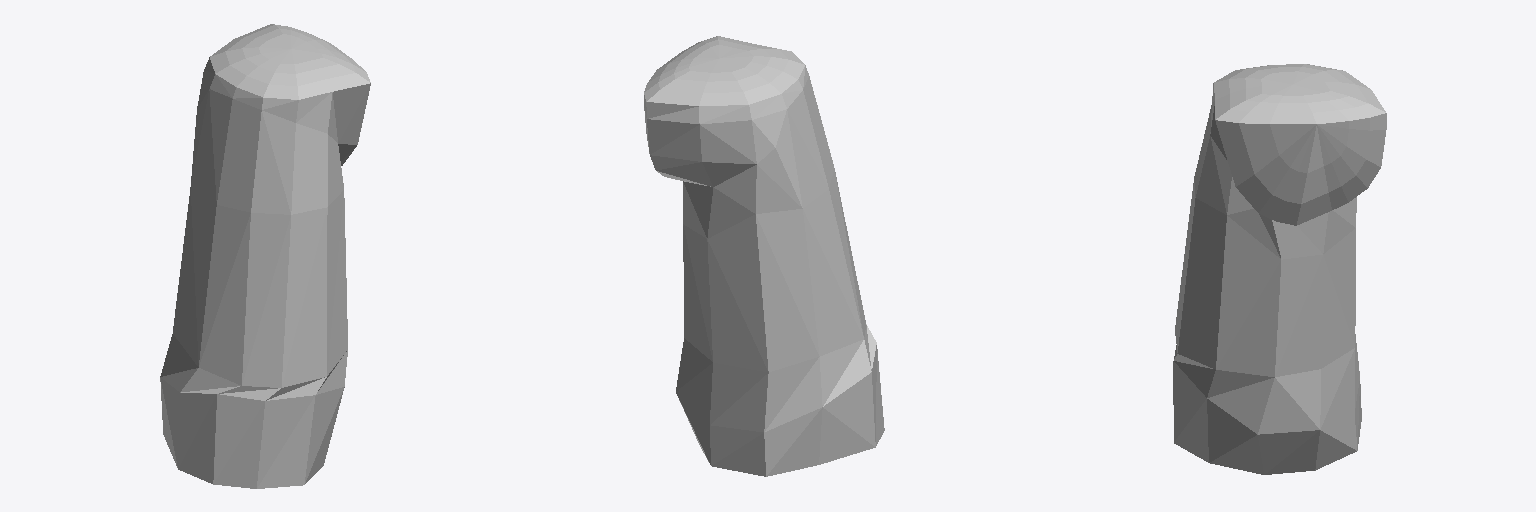
Rendered from leg right.obj.
The picture shows the model from 3 angles: view 1: azimuth 30°, elevation 25°; view 2: azimuth 150°, elevation 25°; view 3: azimuth 270°, elevation 25°; orthographic projection.
Visible parts, largest first — view 1: model459.006; view 2: model459.006; view 3: model459.006.
Boxes of the visible parts, x1,y1,x2,y2 form: model459.006: [160, 24, 370, 488]; model459.006: [644, 36, 884, 476]; model459.006: [1173, 64, 1386, 474].
Bounding box in the file's own units: 2.65 × 5.24 × 2.64.